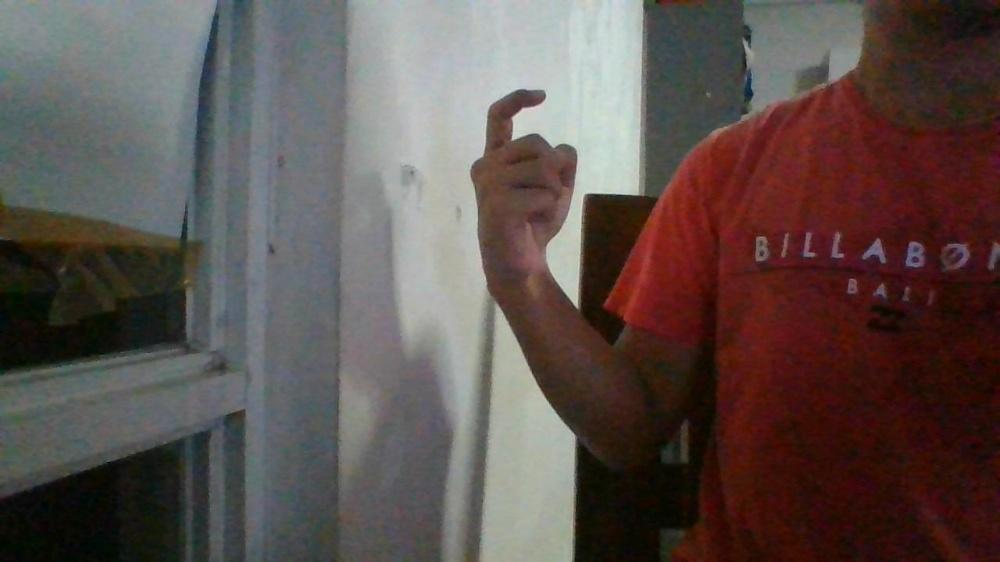x: (468, 85, 579, 292)
